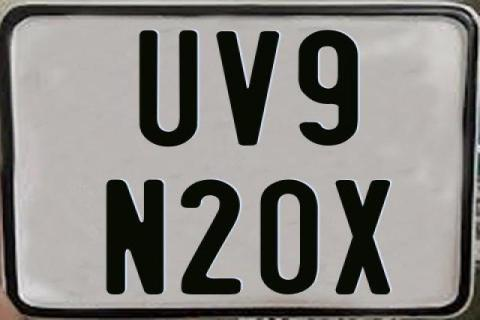0: (295, 28, 360, 148), (178, 178, 243, 294), (258, 178, 316, 296)
N: (104, 178, 168, 296)
U: (136, 31, 196, 149)
V: (216, 29, 284, 145)
X: (333, 180, 393, 296)
